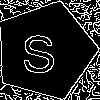S: (20, 25, 57, 74)
